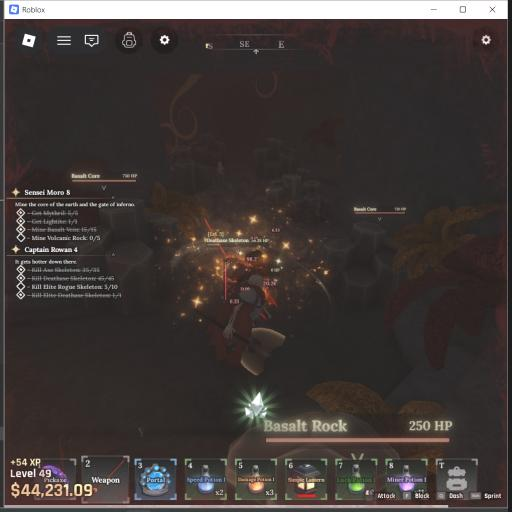player: (179, 247, 329, 299)
rock: (77, 199, 155, 315), (324, 221, 406, 310), (266, 173, 332, 223), (171, 146, 210, 194), (254, 138, 296, 179), (190, 134, 226, 167)
